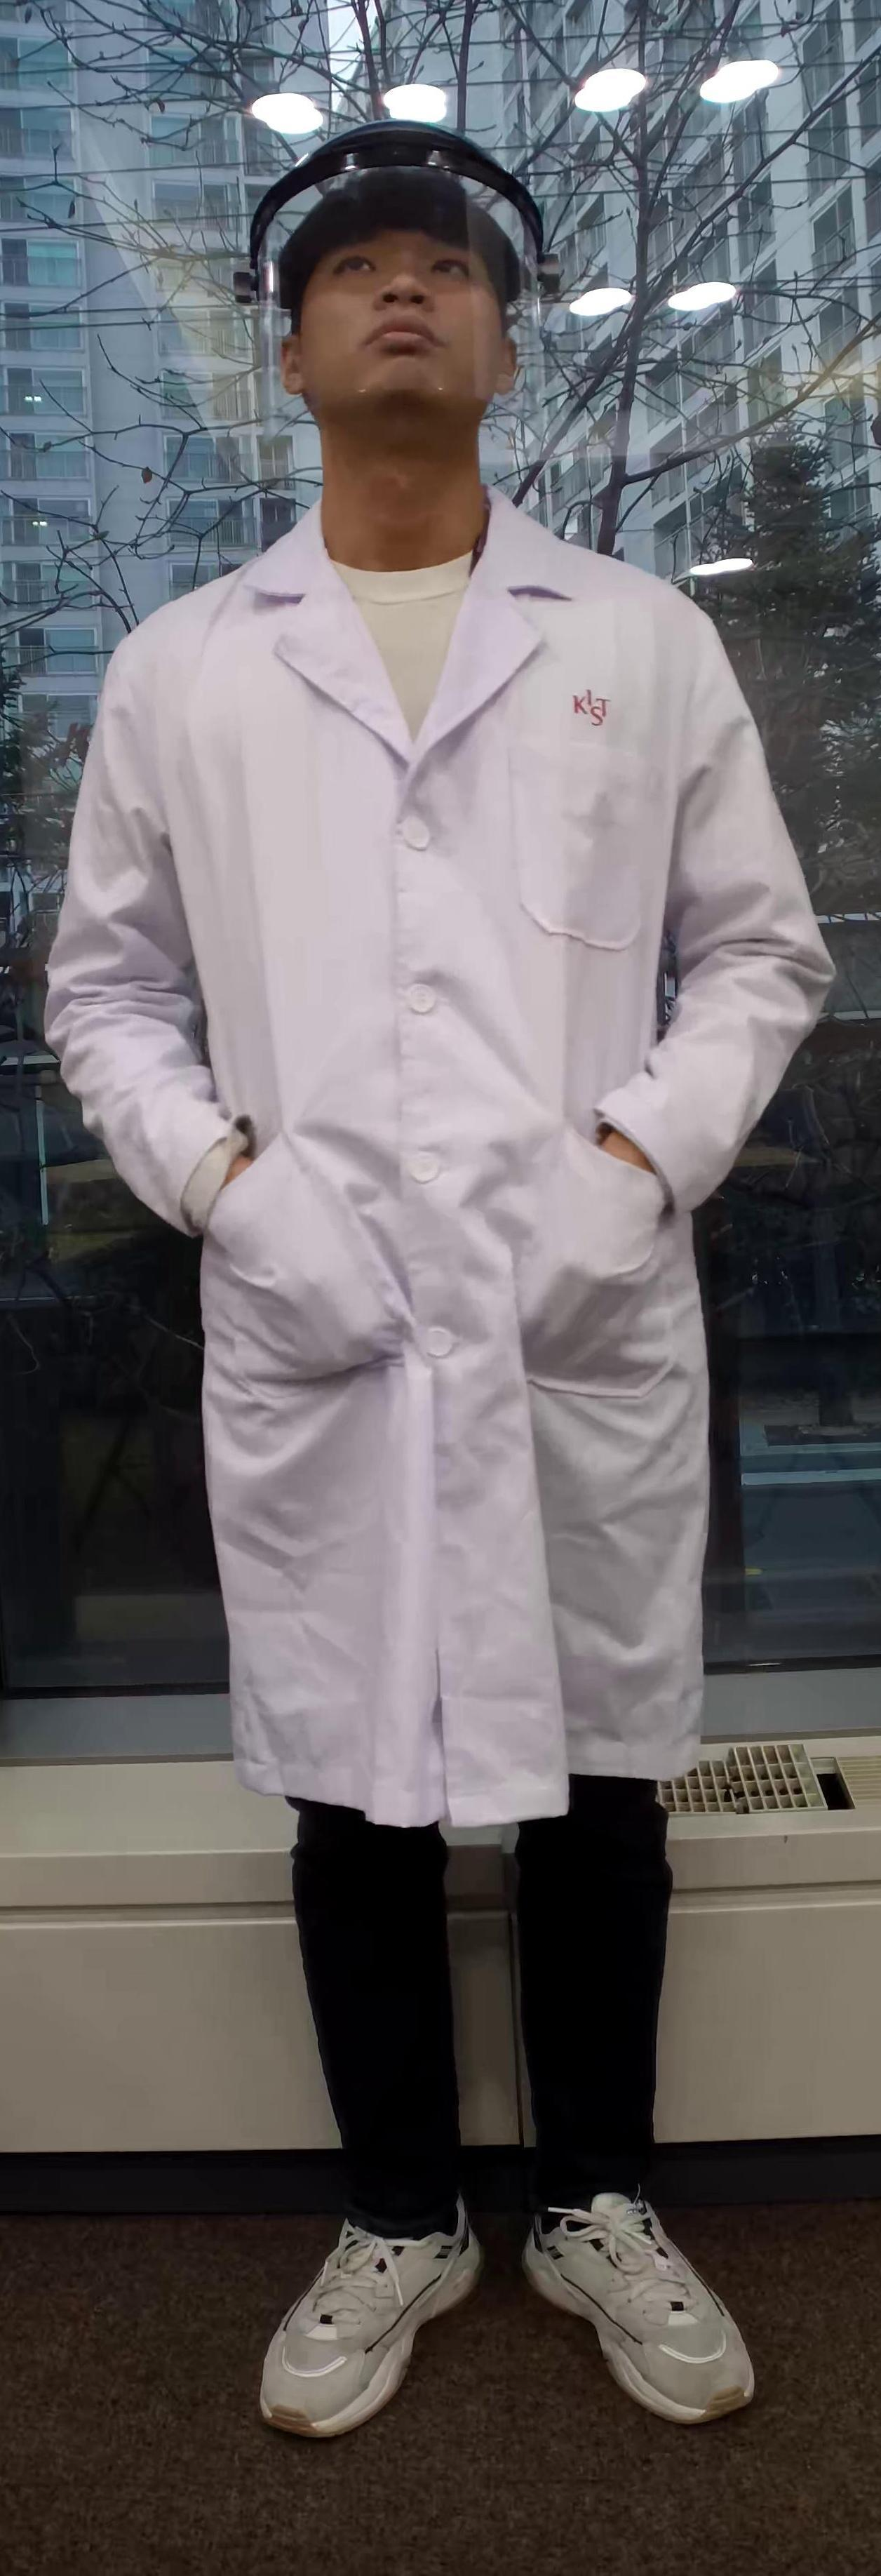lab_coat: (174, 605, 703, 1763)
